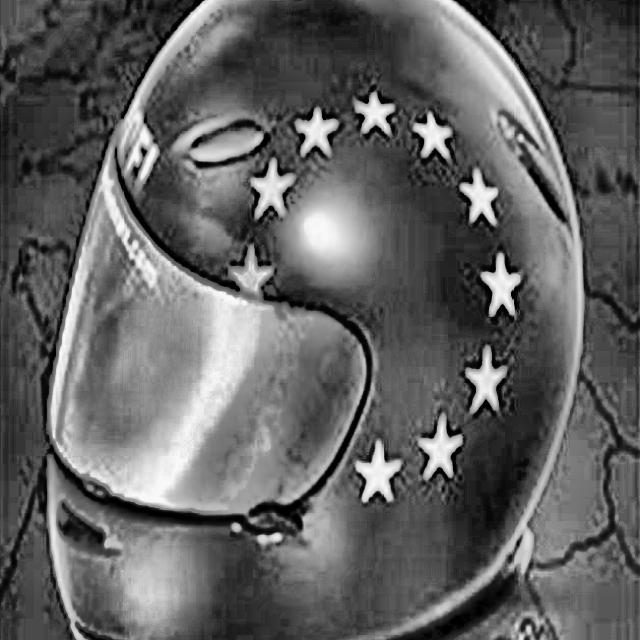Helmet: (40, 0, 593, 640)
